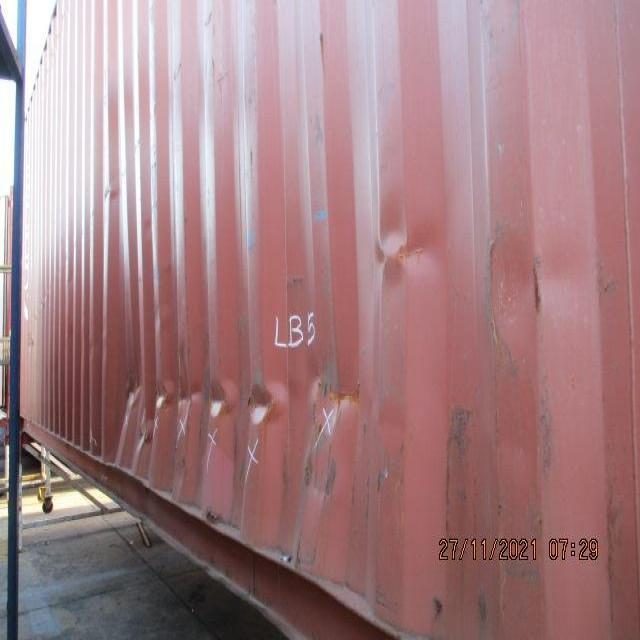dent: (100, 333, 414, 580), (353, 184, 478, 310)
